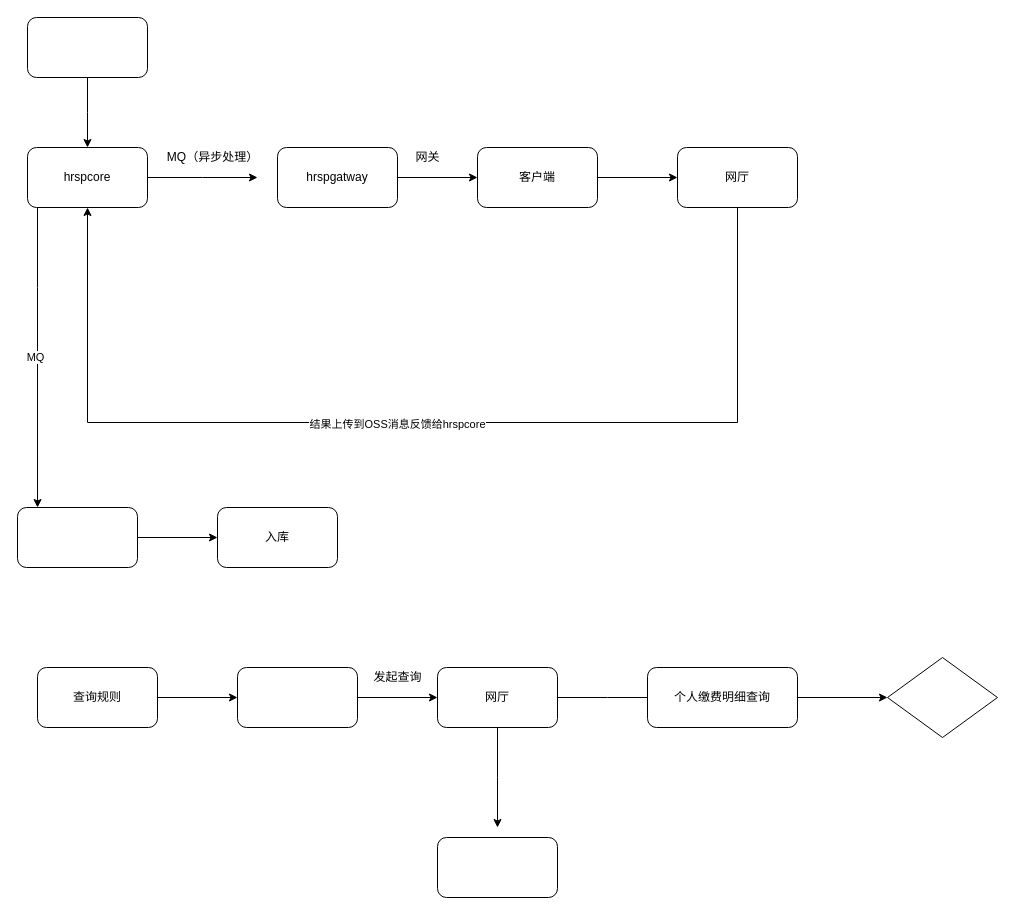
Some shapes in this 1015 by 915 pixel diagram are drawn without their labels. Here are the shapes that lost their labels. From the top down, the centre of each, then its label:
At point 87,47: "hrsscore".
At point 77,537: "iitip(模板解析)".
At point 297,697: "用户".
At point 497,867: "人员花名册".
